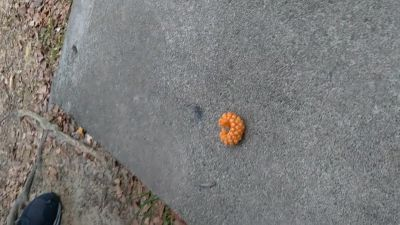eggs: (217, 110, 246, 149)
